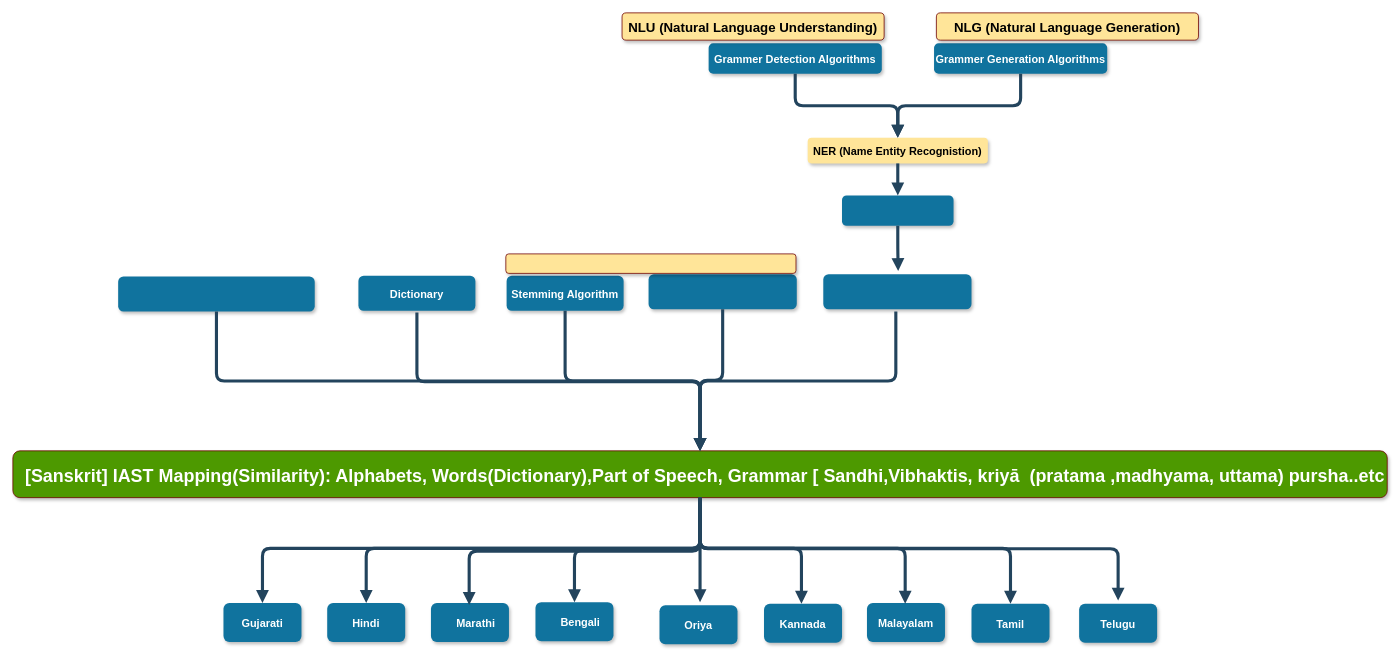
This 1400x657 diagram has some shape labels left out. Here are the shapes that lost their labels. From the top down, the centre of each, then its label:
At point (898, 211): "Rules & Heuristics".
At point (651, 264): "Stemming & Lemmatization Algorithms bija aksharalu dhatus".
At point (217, 295): "Phonetic Character(IAST:ISO15919)".
At point (723, 292): "Lemmatization Algorithm".
At point (898, 292): "Vyakaranam Grammer".
